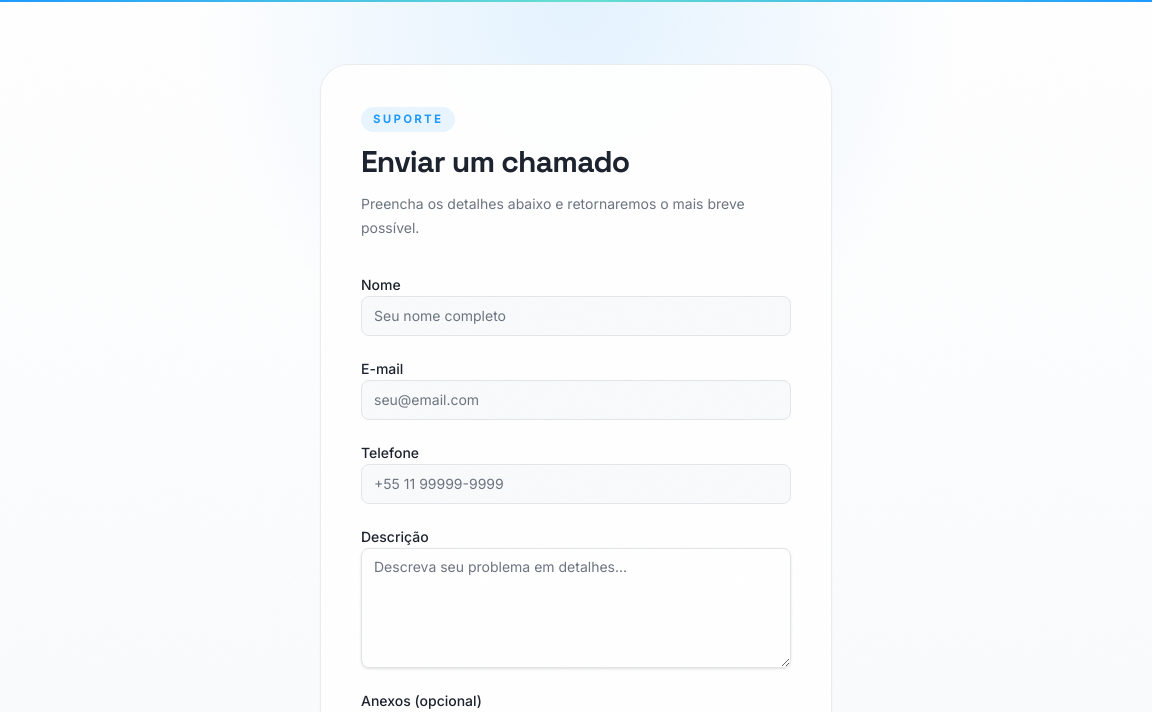
Test: PublicTicketPage › displays API error message on failure
The image size is (1152, 712).
Step 1. Type "Jane" into the field labelled "Nome" → (576, 316), box [361,296,791,336]
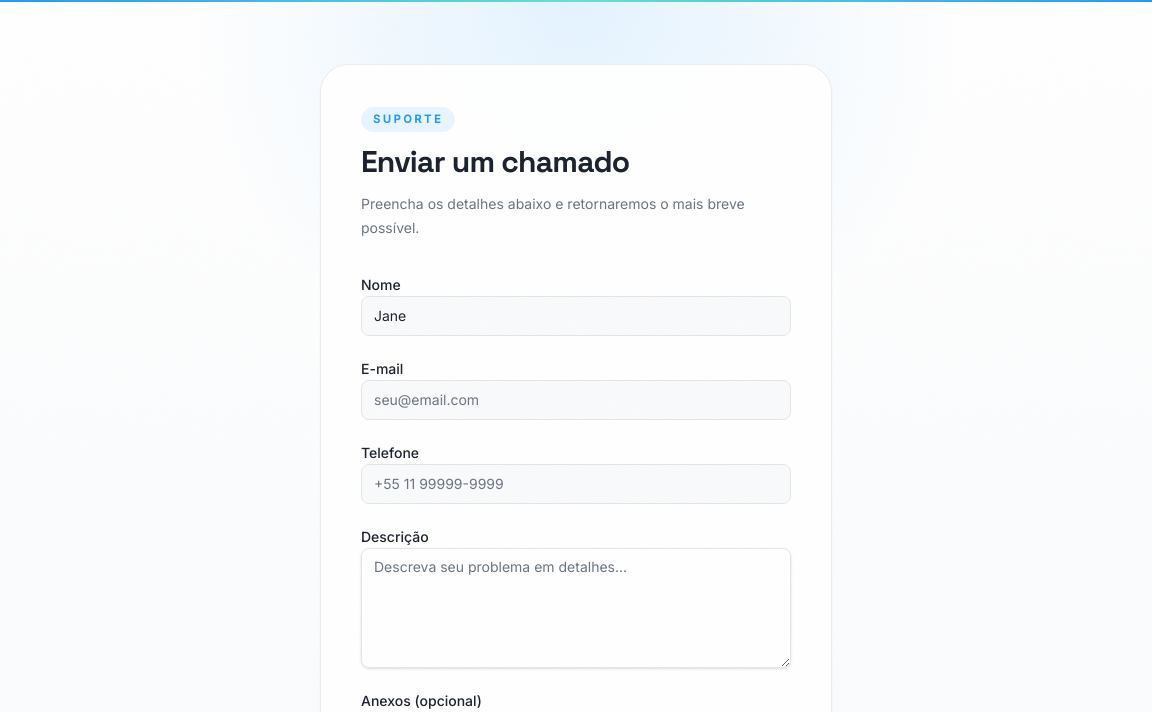
Step 2. Type "jane@test.com" into the field labelled "E-mail" → (576, 400), box [361,380,791,420]
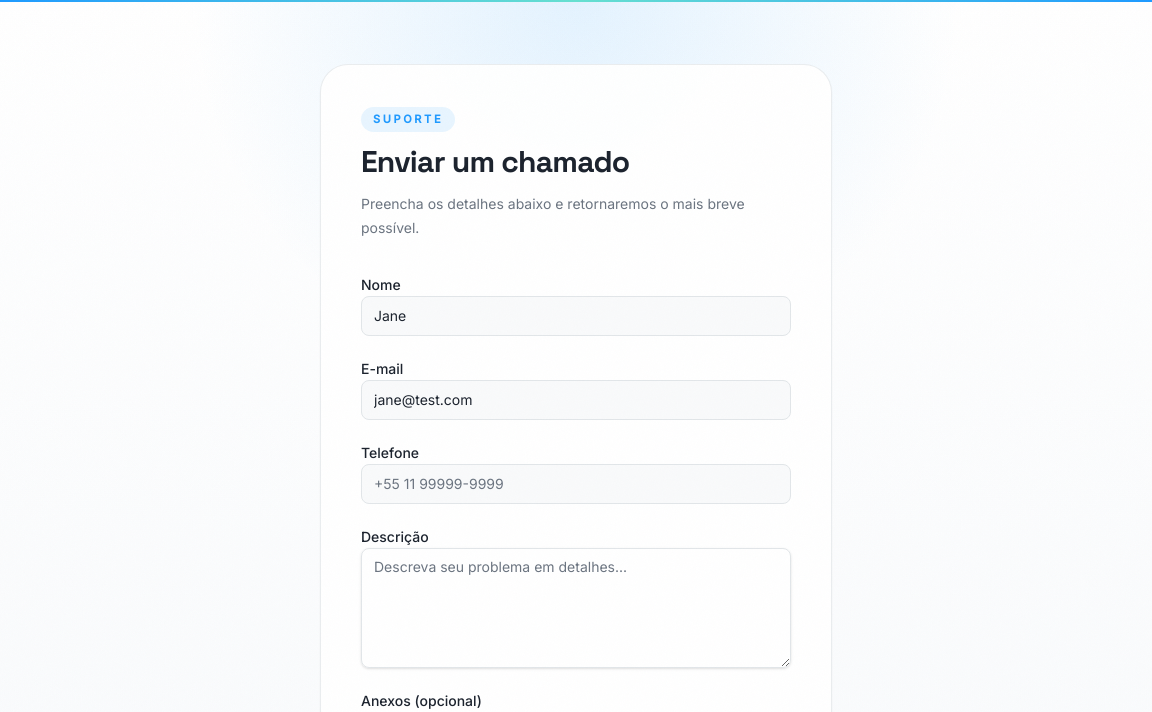
Step 3. Type "123456" into the field labelled "Telefone" → (576, 484), box [361,464,791,504]
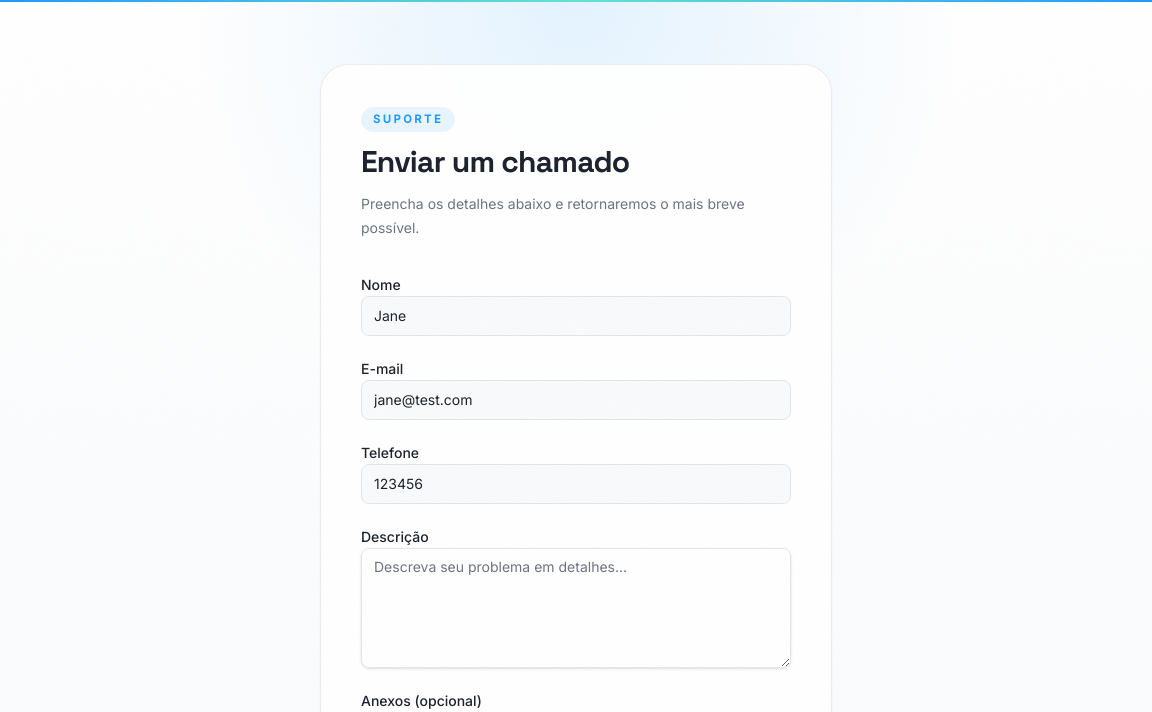
Step 4. Type "Help needed" into the text box labelled "Descrição" → (576, 608), box [361,548,791,668]
(page scrolled)
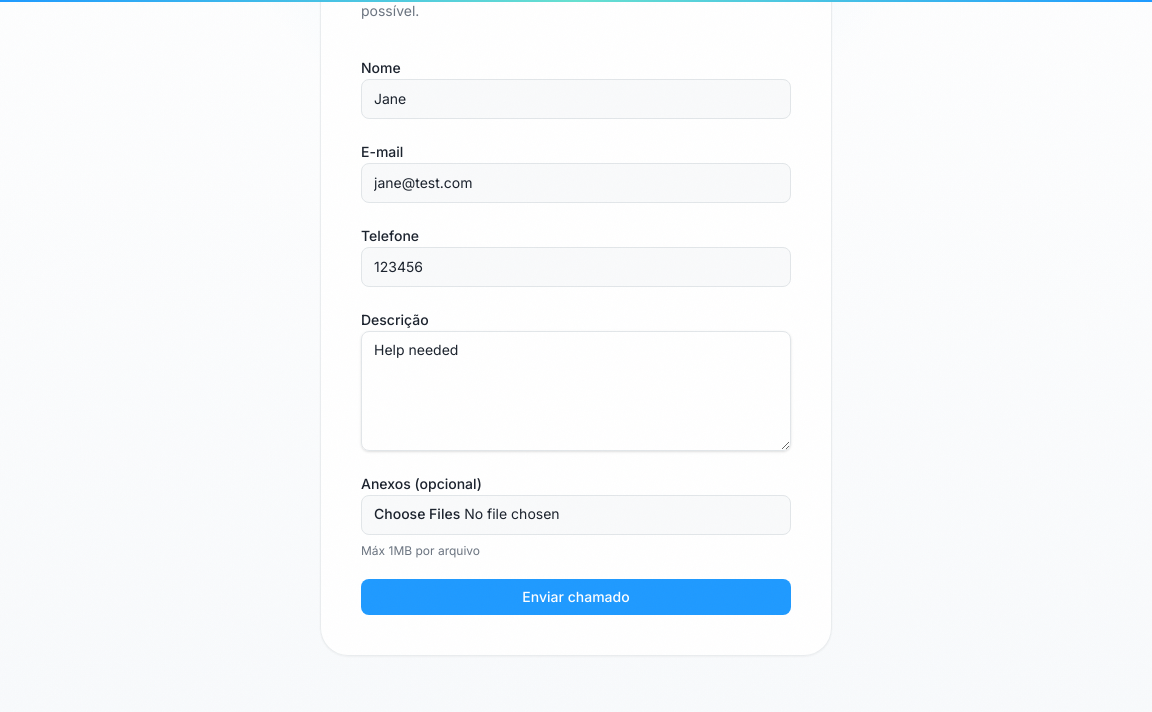
Step 5. Click the button "Enviar chamado" → (576, 596), box [361,578,791,614]
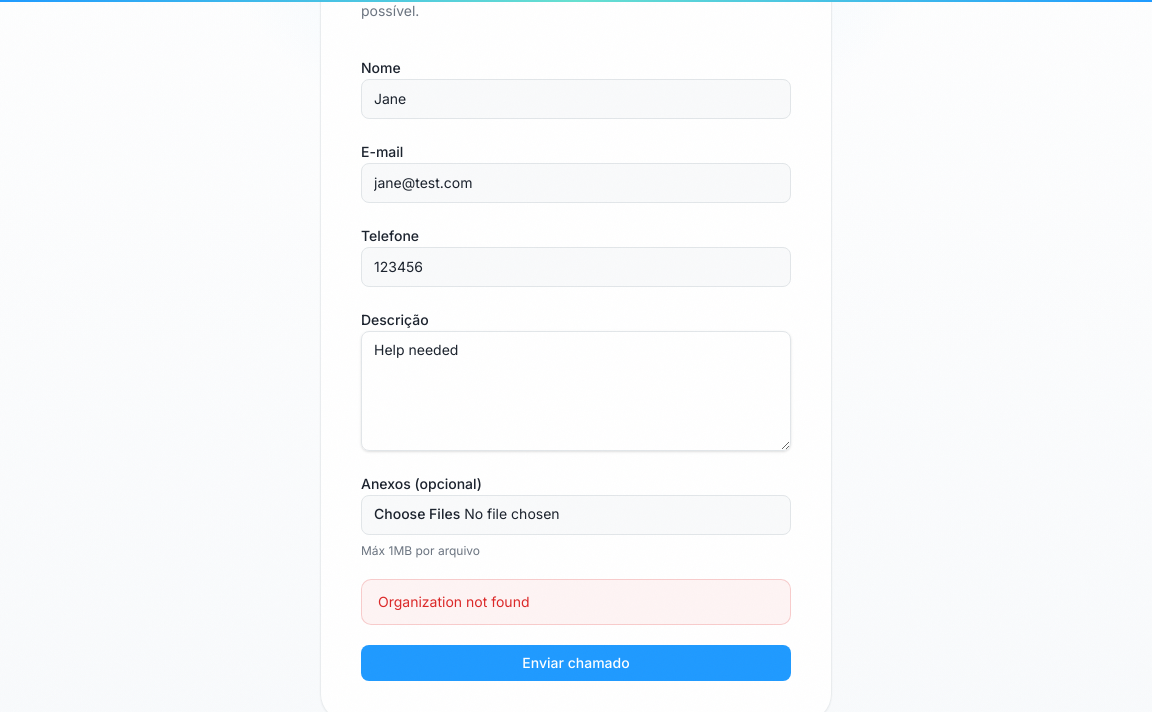
Result: the text "Organization not found" is shown at [361,578,791,624]
